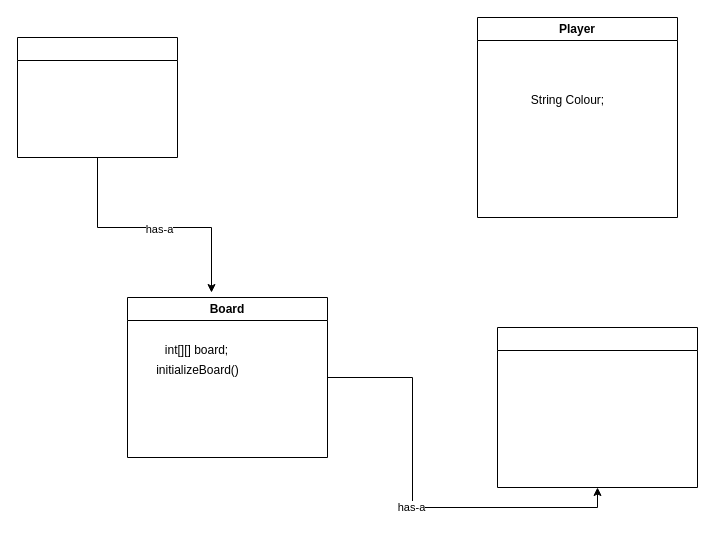
This 715x533 diagram has some shape labels left out. Each missing label, with the centre of its shape:
Enum Piece: (x=597, y=407)
Game: (x=97, y=97)
